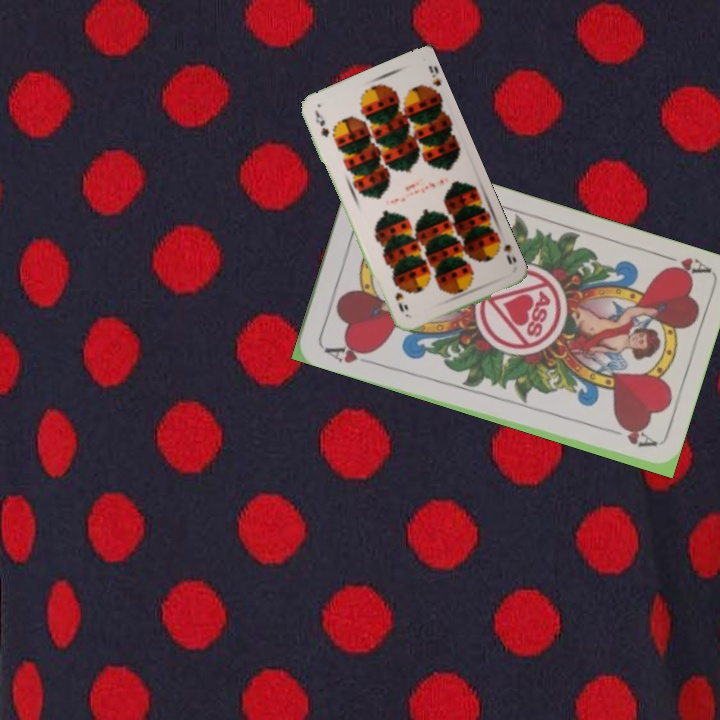HA: (653, 248, 711, 281), (319, 339, 375, 366)
S9: (494, 234, 519, 267), (311, 107, 332, 140)
